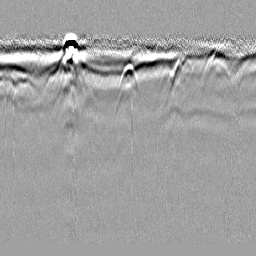cavity: (116, 60, 140, 97)
